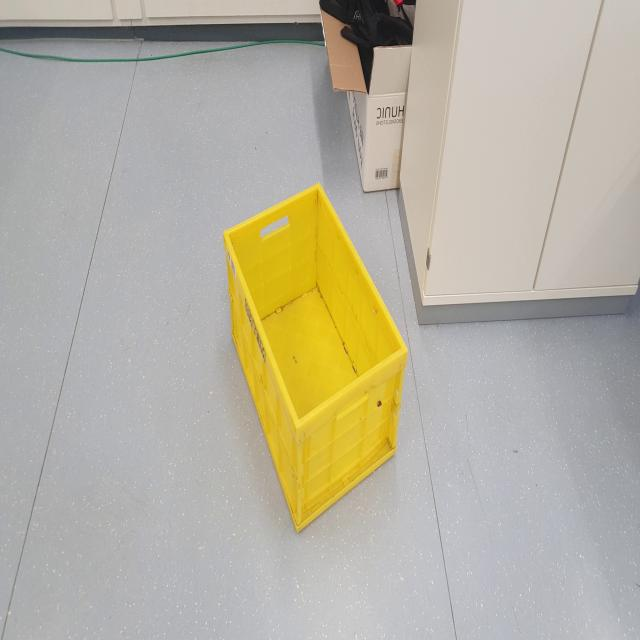box: (218, 177, 412, 550)
